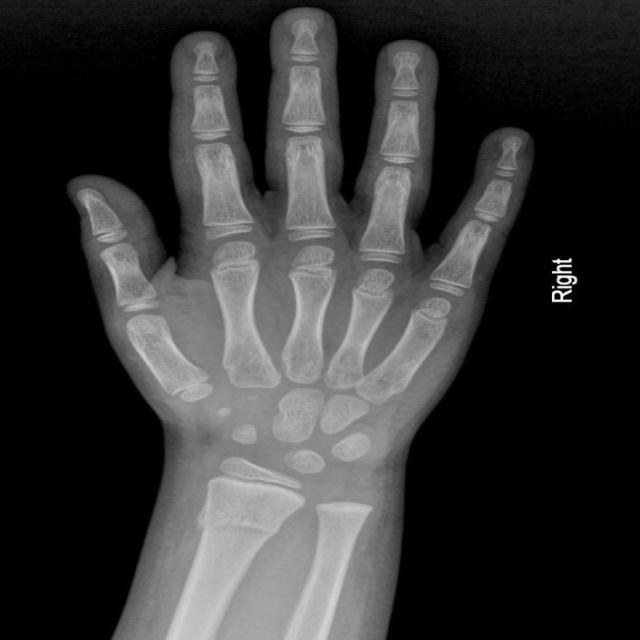fracture: (193, 522, 279, 538)
